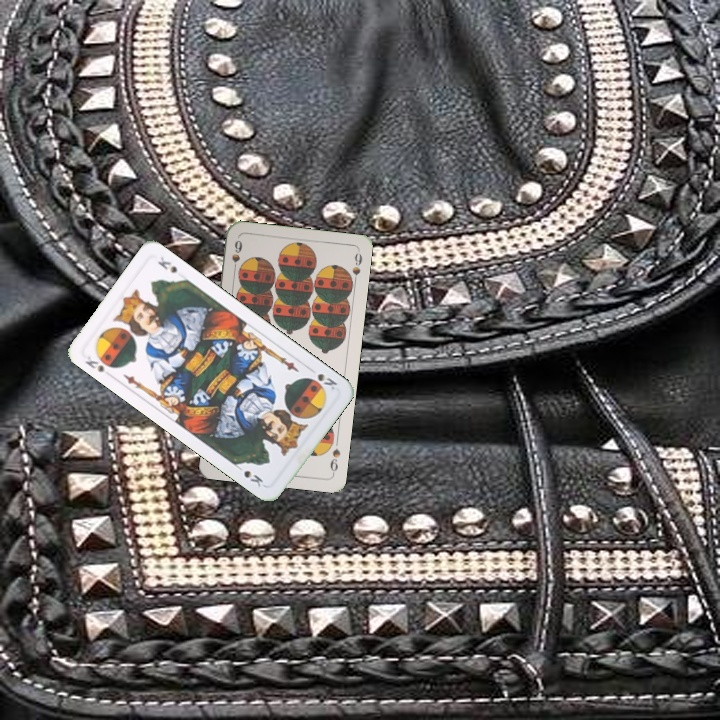S9: (227, 236, 245, 276), (326, 445, 343, 477)
SK: (313, 369, 340, 393), (81, 352, 107, 375)
